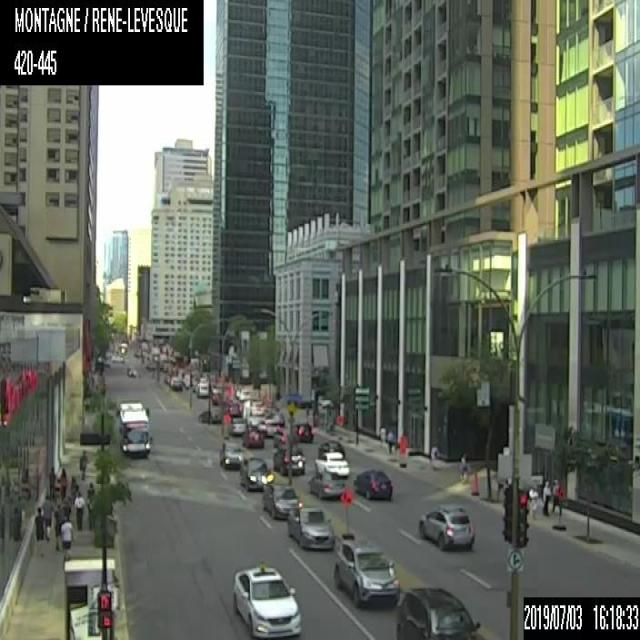bus: (113, 400, 151, 459)
construction: (341, 486, 354, 534), (398, 434, 407, 466), (559, 475, 566, 501), (223, 414, 229, 437)
pedestrian: (60, 516, 72, 558), (53, 502, 63, 549), (86, 482, 96, 528), (34, 508, 42, 562), (43, 494, 52, 540), (74, 492, 84, 530), (541, 478, 550, 514), (78, 446, 88, 478), (47, 463, 56, 498), (58, 468, 67, 502), (552, 478, 560, 514), (458, 451, 467, 481), (528, 488, 536, 520), (430, 442, 439, 469), (386, 426, 394, 454), (380, 425, 386, 448)
vehicle: (230, 558, 301, 638), (332, 540, 401, 606), (397, 588, 485, 638), (416, 504, 474, 548), (290, 502, 336, 549), (261, 482, 303, 519), (352, 467, 391, 500), (239, 455, 275, 489), (306, 471, 346, 500), (314, 449, 348, 476), (273, 448, 305, 474), (220, 439, 247, 468), (318, 439, 345, 459), (241, 427, 264, 448), (292, 422, 312, 442), (222, 396, 241, 416), (229, 417, 247, 434), (198, 409, 221, 422), (195, 380, 209, 396), (239, 387, 252, 400), (170, 376, 182, 389), (127, 366, 136, 376)
